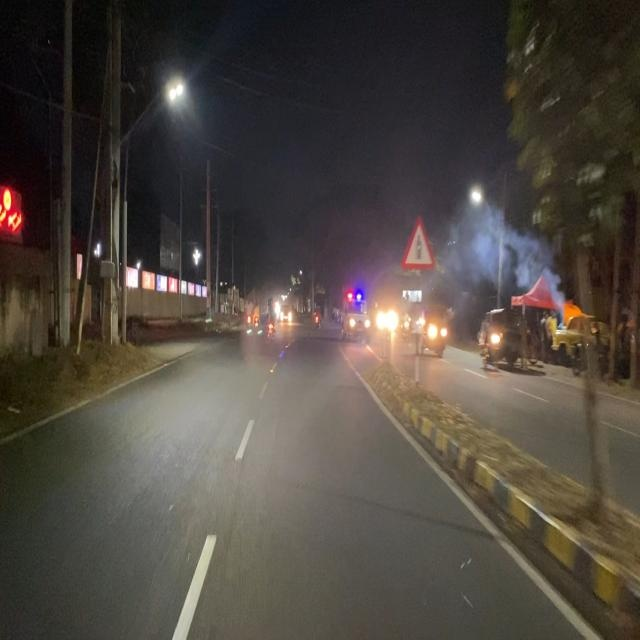bien_nguy_hiem: (401, 212, 436, 272)
